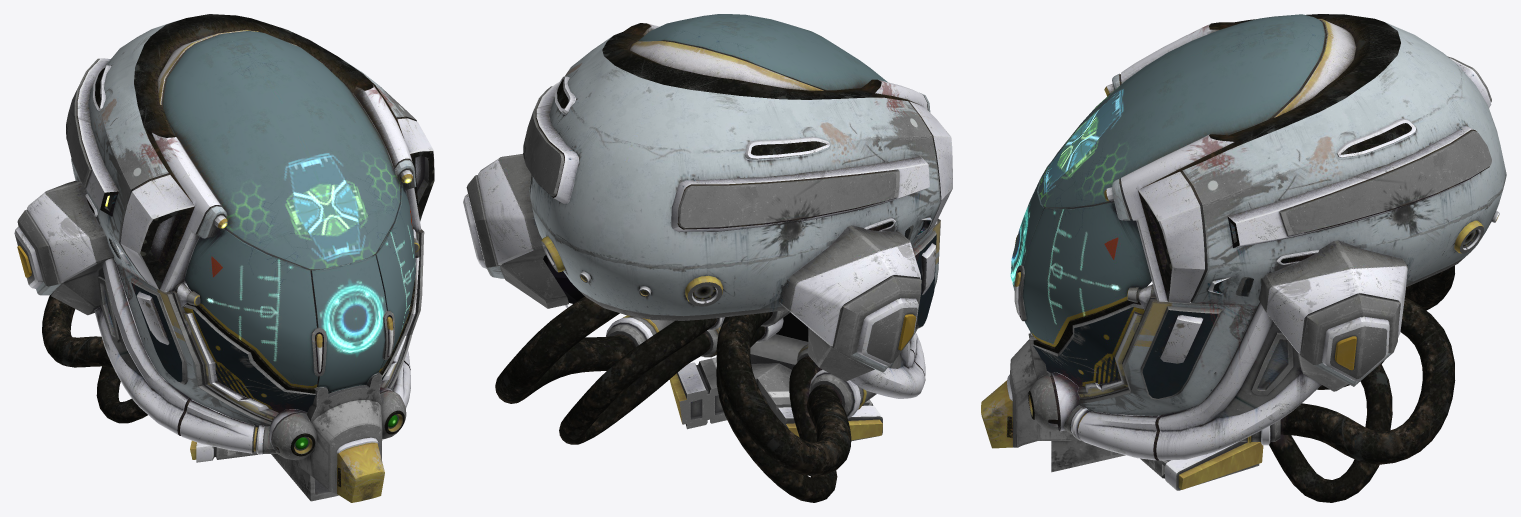
File: example.glb
3 renders of one model, left to right at view 1: azimuth 30°, elevation 25°; view 2: azimuth 150°, elevation 25°; view 3: azimuth 270°, elevation 25°, orthographic. The views are drawn at different scales.
Visible parts, largest first — view 1: node_damagedHelmet_-6514; view 2: node_damagedHelmet_-6514; view 3: node_damagedHelmet_-6514.
Part boxes in pixels (x1,y1,x2,y2): node_damagedHelmet_-6514: [14, 14, 434, 502]; node_damagedHelmet_-6514: [463, 14, 952, 502]; node_damagedHelmet_-6514: [981, 14, 1506, 502].
Size of the model in its own units: 1.89 by 1.8 by 2.
Materials: 1 (1 with a texture image).
